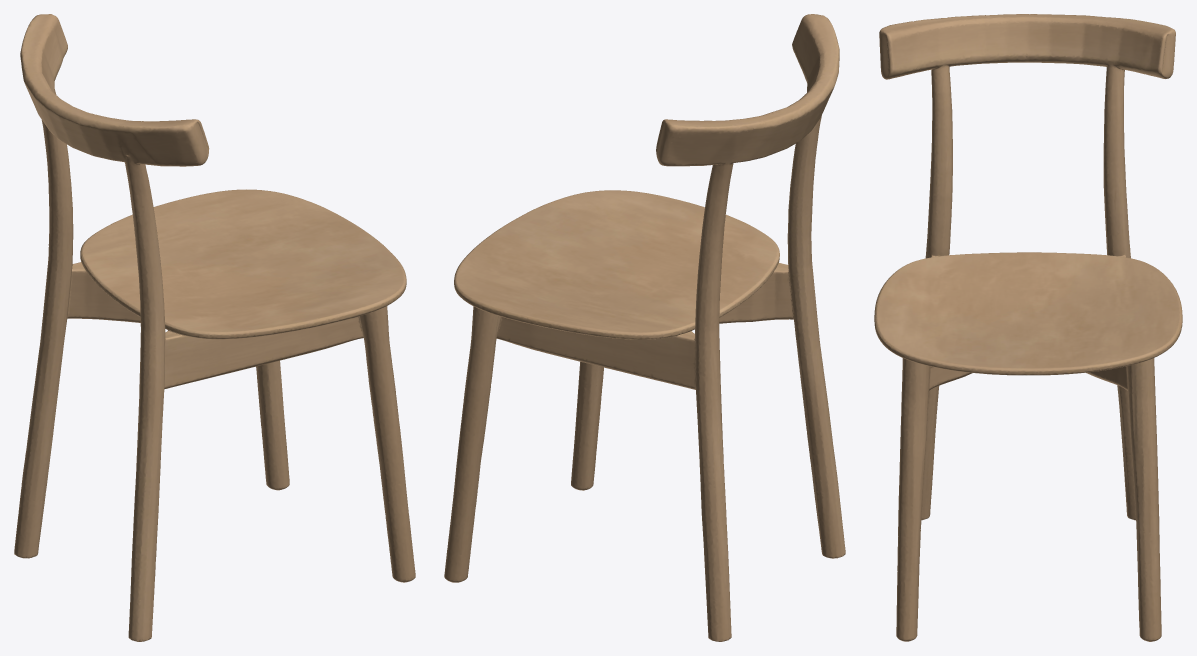
The model's file is unidentified_model_tspyuu.glb.
The picture shows the model from 3 angles, left to right: view 1: azimuth 30°, elevation 25°; view 2: azimuth 150°, elevation 25°; view 3: azimuth 270°, elevation 25°; orthographic projection. The views are drawn at different scales.
Visible parts, largest first — view 1: world; view 2: world; view 3: world.
Boxes of the visible parts, bbox=[...] form: world: bbox=[14, 14, 415, 641]; world: bbox=[444, 14, 845, 641]; world: bbox=[874, 14, 1182, 641].
Size of the model in its own units: 0.6544 by 1 by 0.5556.
Materials: 1 (1 with a texture image).
